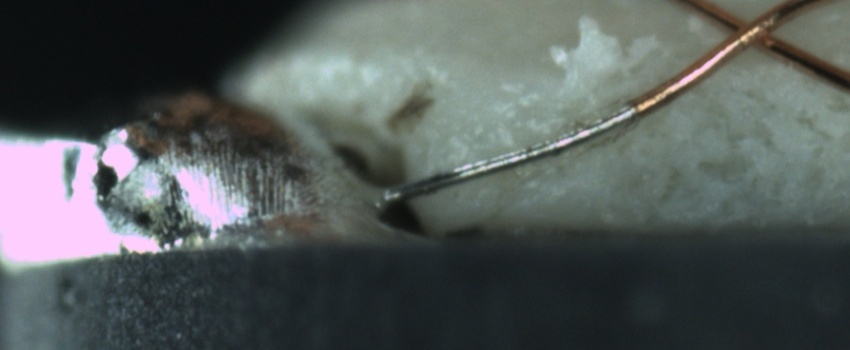CL: (701, 1, 790, 60)
TS: (384, 102, 636, 199)
